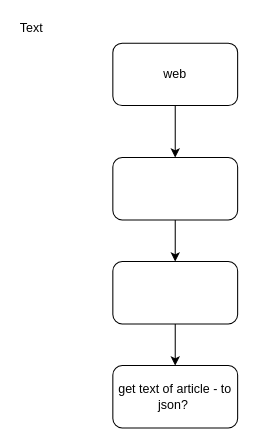
The diagram is 256 pixels wide and 446 high, and some of its shapes have lost their labels. Each missing label, with the box of its shape:
content of web – get urls of articles to csv?: (112, 157, 238, 220)
get text of article: (112, 261, 238, 324)
